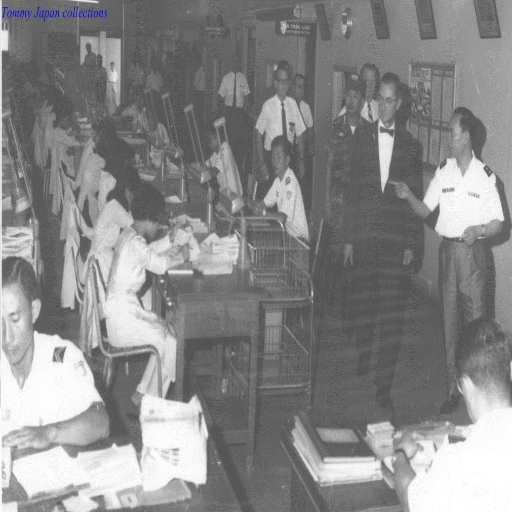hand: (0, 422, 51, 448), (390, 432, 423, 459), (386, 179, 410, 199), (459, 224, 479, 244), (245, 199, 260, 216), (169, 218, 182, 237), (342, 244, 355, 263), (323, 198, 332, 224), (176, 241, 189, 256), (401, 250, 412, 266), (257, 163, 267, 180), (297, 161, 305, 179)
